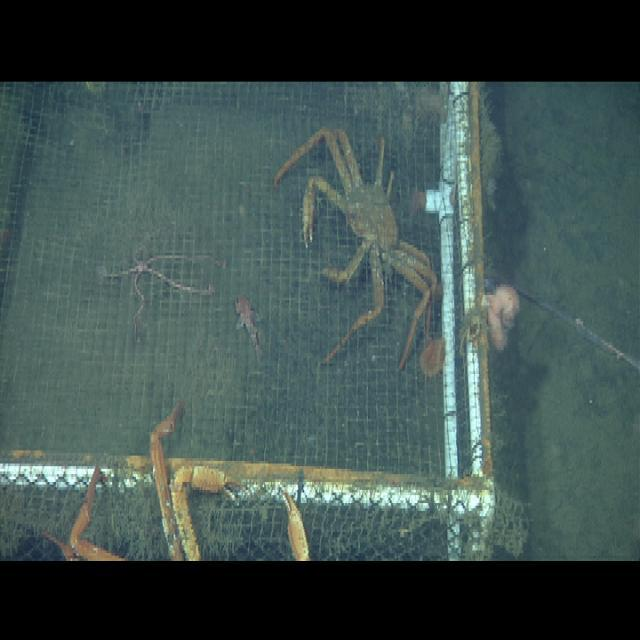Brittle Star: (92, 237, 214, 324)
Not Brittle Star: (268, 121, 441, 381), (227, 288, 272, 373), (484, 279, 524, 328), (414, 330, 449, 384), (481, 313, 514, 361)
